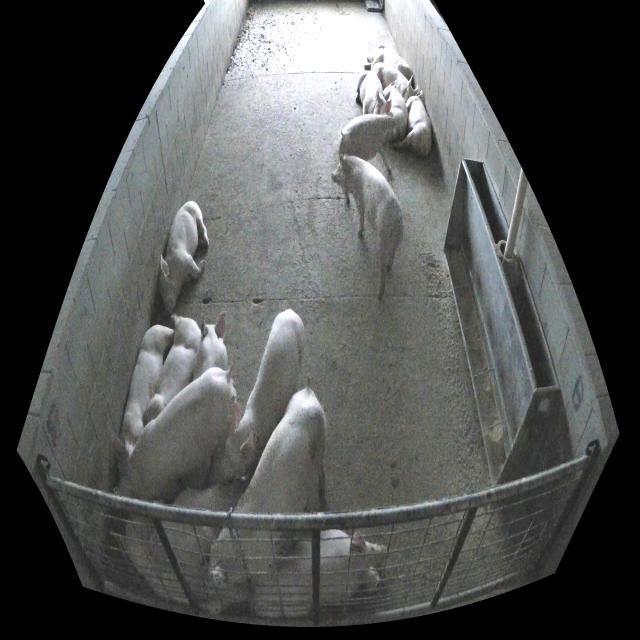pig: (208, 388, 326, 583), (113, 367, 237, 502), (221, 309, 305, 479), (120, 514, 248, 616), (250, 529, 386, 617), (332, 155, 403, 297), (114, 325, 174, 477), (149, 487, 229, 582), (146, 314, 200, 423), (160, 201, 209, 313), (339, 115, 395, 182), (393, 91, 432, 156), (194, 311, 228, 380), (371, 62, 417, 103), (364, 43, 411, 81), (356, 70, 392, 115), (384, 83, 408, 143)
